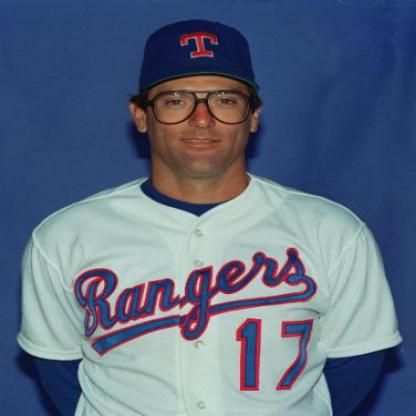face: (148, 28, 254, 178)
